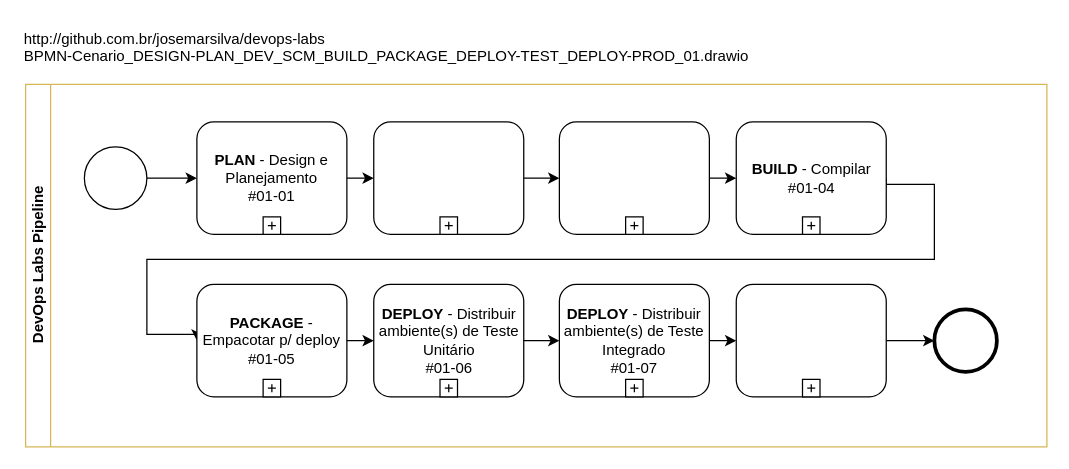
This 1069x469 diagram has some shape labels left out. The centre of each missing label's shape, as x and y in pixels:
"DEPLOY - Distribuir ambiente(s) de Produção #01-08" goes at point 810,340.
"DEV - Development #01-02" goes at point 448,177.
"SCM - Source Code Management #01-03" goes at point 633,177.
